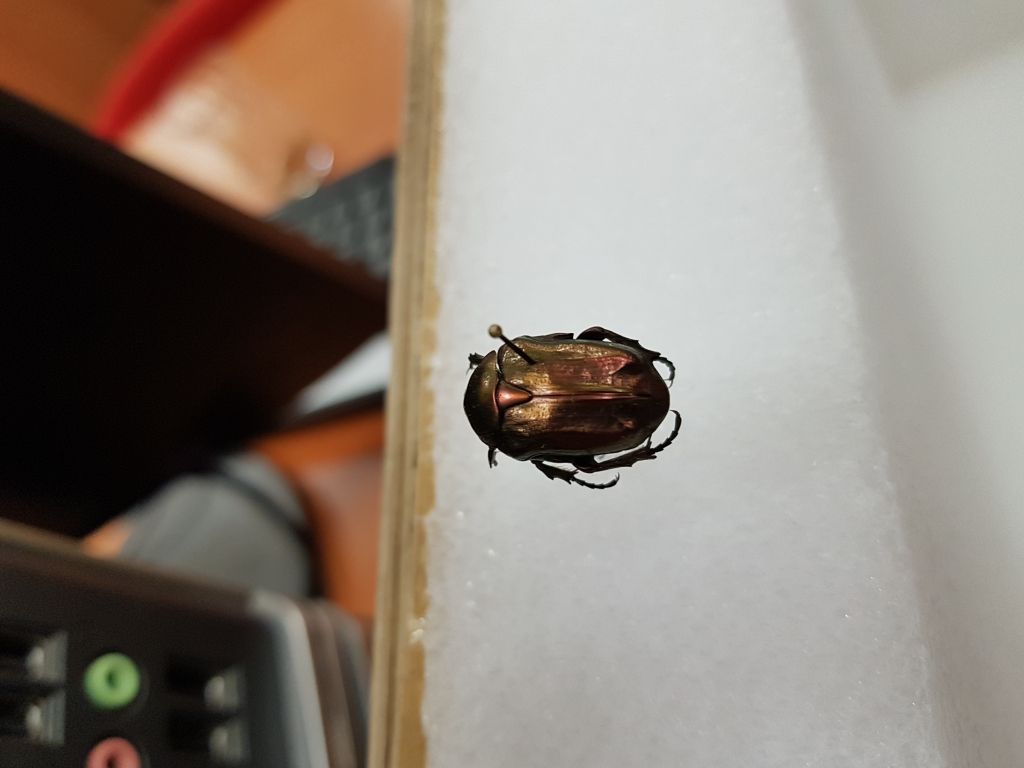Cetonia_aurata: (450, 318, 687, 493)
